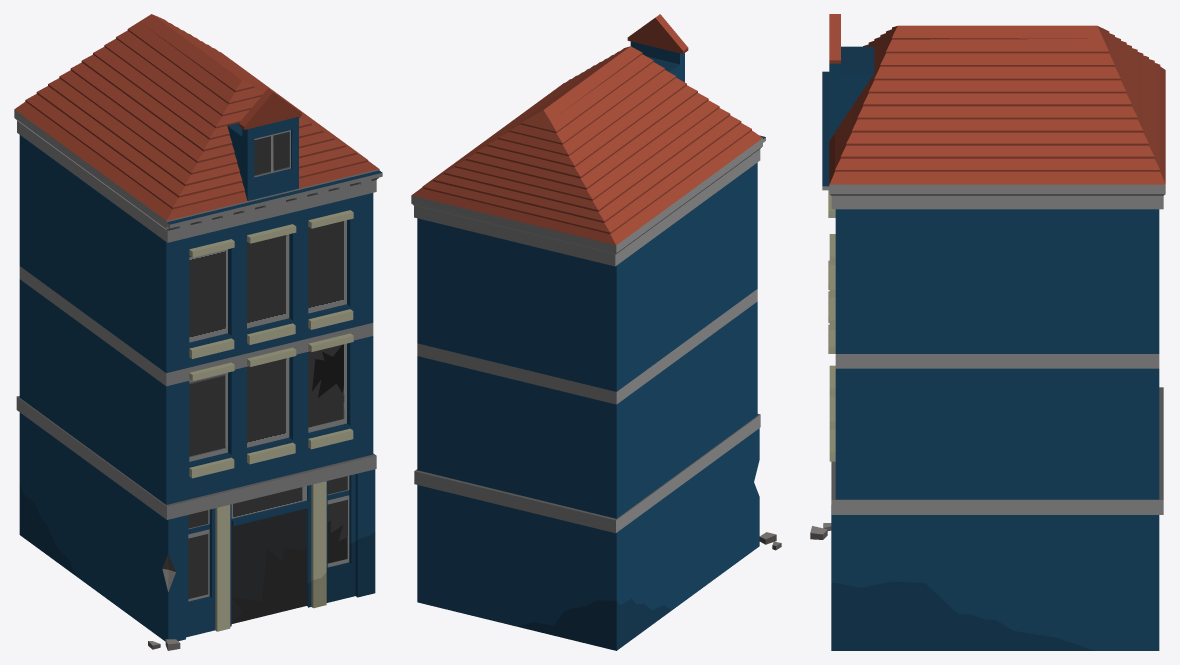
Rendered from SA_Bld_OfficeOld_01.glb.
3 views of the same model, side by side, from view 1: azimuth 30°, elevation 25°; view 2: azimuth 150°, elevation 25°; view 3: azimuth 270°, elevation 25° (orthographic). The views are drawn at different scales.
Parts seen in each view (by area): view 1: SA_Bld_OfficeOld_01; view 2: SA_Bld_OfficeOld_01; view 3: SA_Bld_OfficeOld_01.
Boxes of the visible parts, left/top/right/bottom form: SA_Bld_OfficeOld_01: left=14, top=14, right=382, bottom=650; SA_Bld_OfficeOld_01: left=411, top=14, right=781, bottom=650; SA_Bld_OfficeOld_01: left=810, top=14, right=1165, bottom=650.
Size of the model in its own units: 3.86 by 8.47 by 4.69.
1 material, 1 textured.
